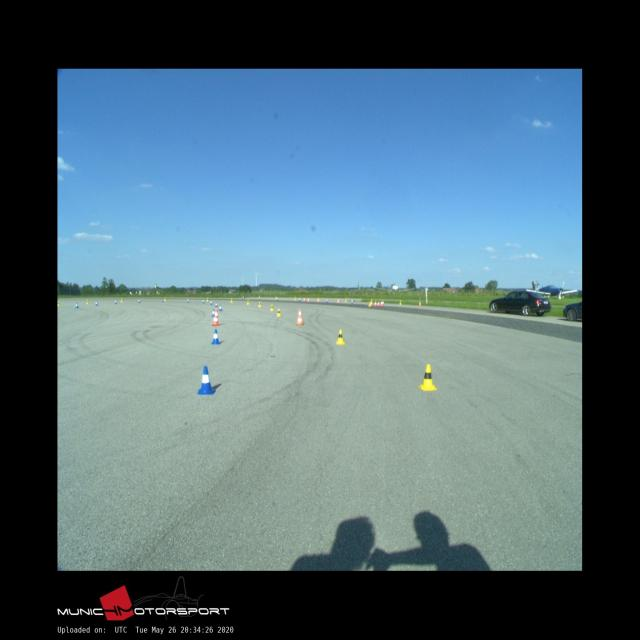blue_cone: (197, 366, 215, 394), (211, 330, 220, 344), (211, 309, 215, 317), (75, 302, 79, 308), (219, 304, 222, 311), (114, 299, 118, 304), (95, 300, 98, 306), (138, 298, 141, 304), (215, 302, 218, 307), (210, 300, 212, 305)
large_orange_cone: (212, 308, 220, 325), (296, 309, 303, 324)
yellow_cone: (419, 363, 437, 390), (336, 330, 345, 344), (277, 308, 281, 316), (270, 304, 274, 311), (258, 301, 261, 307), (57, 301, 60, 306), (86, 299, 89, 304), (230, 298, 233, 302), (247, 300, 249, 304), (121, 298, 123, 302)
